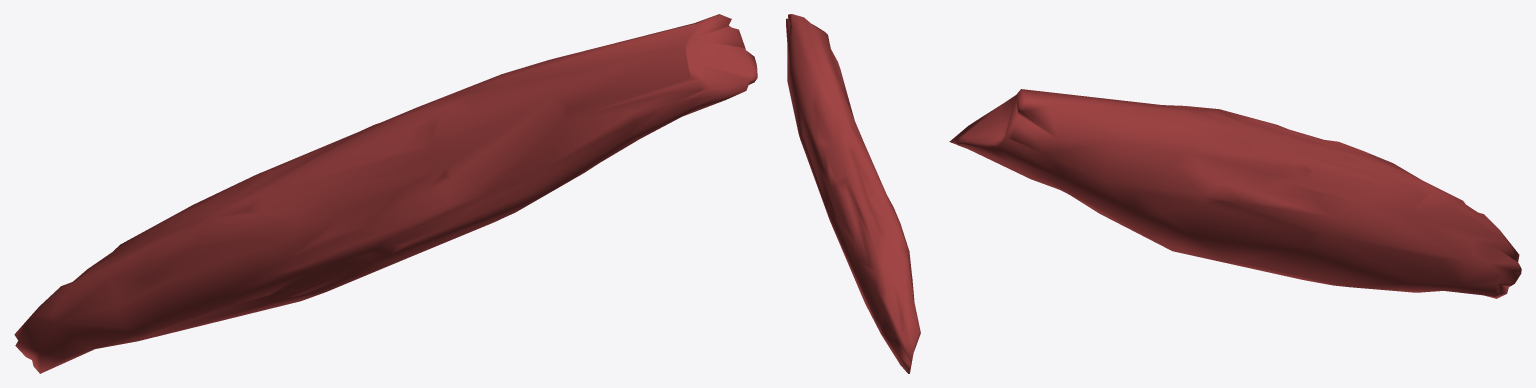
Rendered from obliquus-inferior-capitis-muscle-l.glb.
3 views of the same model, side by side, from view 1: azimuth 30°, elevation 25°; view 2: azimuth 150°, elevation 25°; view 3: azimuth 270°, elevation 25° (orthographic). The views are drawn at different scales.
Parts seen in each view (by area): view 1: Obliquus inferior capitis muscle.l; view 2: Obliquus inferior capitis muscle.l; view 3: Obliquus inferior capitis muscle.l.
Boxes of the visible parts, x1,y1,x2,y2 form: Obliquus inferior capitis muscle.l: (14,14,757,373); Obliquus inferior capitis muscle.l: (786,14,920,373); Obliquus inferior capitis muscle.l: (949,89,1521,298).
Size of the model in its own units: 0.0387 by 0.0315 by 0.0378.
